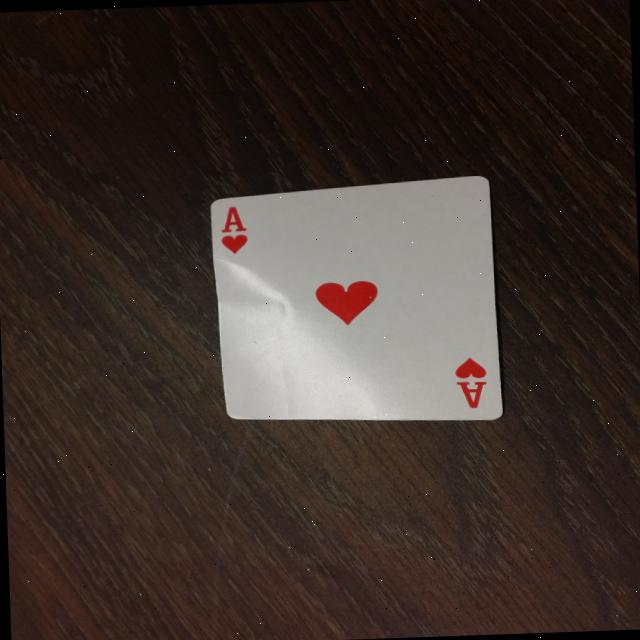Ah: (432, 346, 502, 418), (210, 200, 270, 260)
